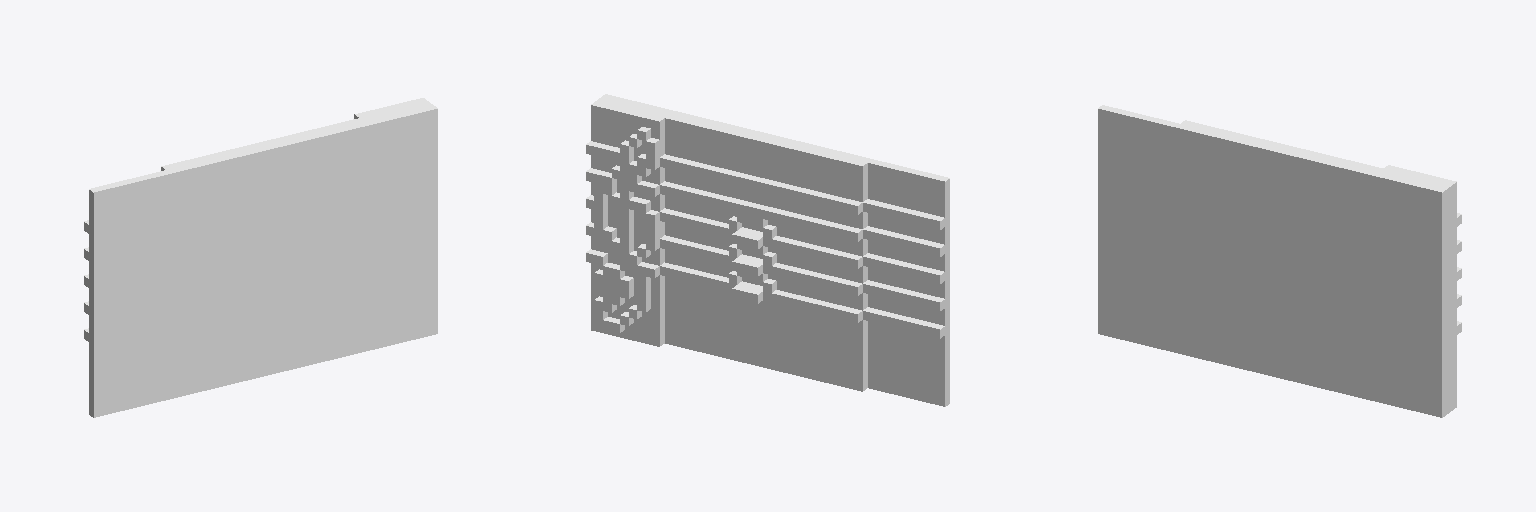
The model's file is pentagramaFamayor.obj.
3 renders of one model, left to right at view 1: azimuth 30°, elevation 25°; view 2: azimuth 150°, elevation 25°; view 3: azimuth 330°, elevation 25°, orthographic.
Visible parts, largest first — view 1: object 1; view 2: object 1; view 3: object 1.
Part boxes in pixels (x1,y1,x2,y2): object 1: (84, 98, 437, 417); object 1: (586, 94, 949, 406); object 1: (1098, 105, 1461, 417).
Size of the model in its own units: 4 by 2.5 by 0.4.